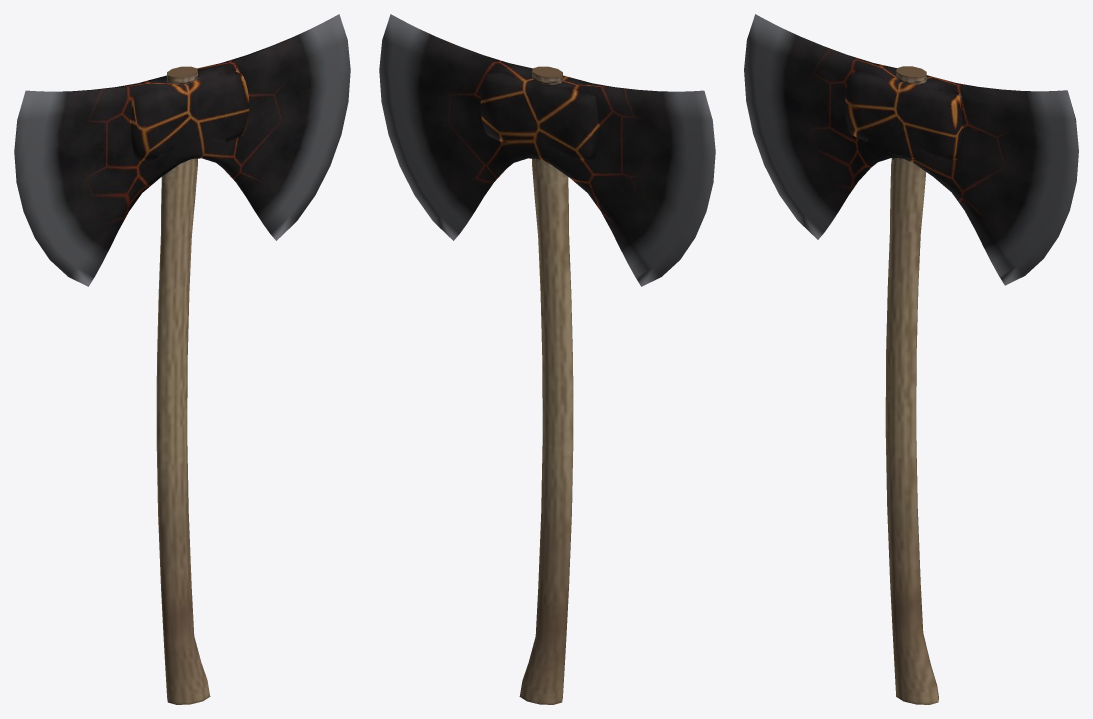
The picture shows the model from 3 angles, left to right: view 1: azimuth 30°, elevation 25°; view 2: azimuth 150°, elevation 25°; view 3: azimuth 330°, elevation 25°; orthographic projection.
Visible parts, largest first — view 1: variant_0; view 2: variant_0; view 3: variant_0.
Boxes of the visible parts, x1=… form: variant_0: x1=14, y1=14, x2=350, y2=704; variant_0: x1=379, y1=14, x2=715, y2=704; variant_0: x1=744, y1=14, x2=1078, y2=704.
Size of the model in its own units: 0.3791 by 0.7033 by 0.0458.
Materials: 2 (2 with a texture image).
